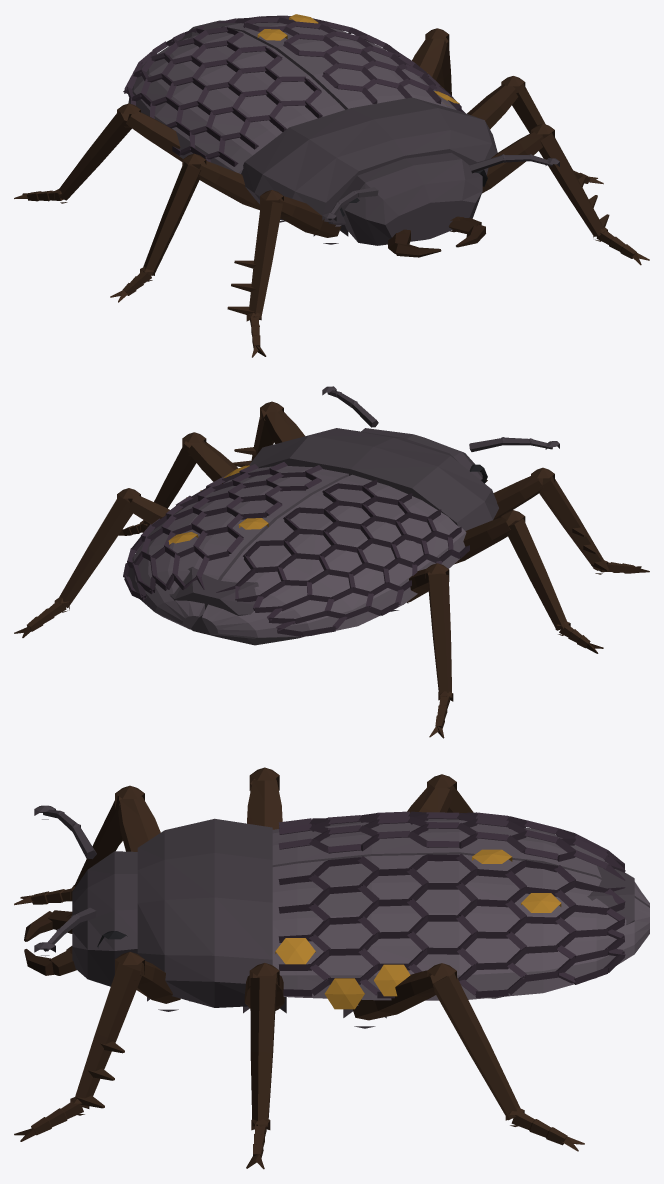
The model's file is hive_architect.glb.
The picture shows the model from 3 angles, top to bottom: view 1: azimuth 30°, elevation 25°; view 2: azimuth 150°, elevation 25°; view 3: azimuth 270°, elevation 25°; orthographic projection. The views are drawn at different scales.
Parts seen in each view (by area): view 1: ThoraxCore, hive_ridge, BeetlePlate_01, HeadBase001, BeetlePlate_00, Tibia001, Tibia003, Tibia000, Tibia005, Femur003, Femur001, Femur000 (+5 smaller); view 2: BeetlePlate_01, hive_ridge, ThoraxCore, BeetlePlate_00, BeetleBodyInner, Tibia004, Tibia005, Tibia003, Tibia001, Tibia002, Femur003, Femur001 (+6 smaller); view 3: BeetlePlate_00, hive_ridge, ThoraxCore, BeetlePlate_01, HeadBase001, hive_resin, Tibia000, Tibia004, Tibia002, Femur004, Femur001, Femur003 (+6 smaller).
Boxes of the visible parts, box(x1,y1,x2,y2) form: ThoraxCore: box(241, 97, 497, 224); hive_ridge: box(123, 15, 465, 166); BeetlePlate_01: box(128, 27, 344, 173); HeadBase001: box(337, 152, 482, 245); BeetlePlate_00: box(221, 22, 456, 109); Tibia001: box(227, 200, 282, 318); Tibia003: box(143, 161, 200, 275); Tibia000: box(539, 132, 609, 236); Tibia005: box(58, 111, 131, 200); Femur003: box(192, 161, 260, 209); Femur001: box(264, 196, 340, 237); Femur000: box(482, 132, 543, 193); BeetlePlate_01: box(202, 474, 466, 638); hive_ridge: box(123, 462, 469, 636); ThoraxCore: box(249, 428, 498, 530); BeetlePlate_00: box(128, 466, 348, 629); BeetleBodyInner: box(169, 567, 303, 645); Tibia004: box(59, 496, 133, 607); Tibia005: box(428, 573, 452, 698); Tibia003: box(506, 518, 568, 630); Tibia001: box(539, 476, 609, 571); Tibia002: box(142, 441, 196, 528); Femur003: box(454, 517, 514, 564); Femur001: box(493, 475, 543, 519); BeetlePlate_00: box(272, 854, 649, 1000); hive_ridge: box(278, 811, 625, 998); ThoraxCore: box(137, 818, 272, 1007); BeetlePlate_01: box(272, 819, 649, 907); HeadBase001: box(72, 851, 137, 986); hive_resin: box(275, 849, 561, 1009); Tibia000: box(74, 963, 143, 1108); Tibia004: box(433, 973, 520, 1120); Tibia002: box(250, 977, 276, 1126); Femur004: box(353, 970, 445, 1020); Femur001: box(118, 796, 160, 851); Femur003: box(247, 779, 282, 829).
Bounding box in the file's own units: 3.67 × 0.989 × 3.3.
